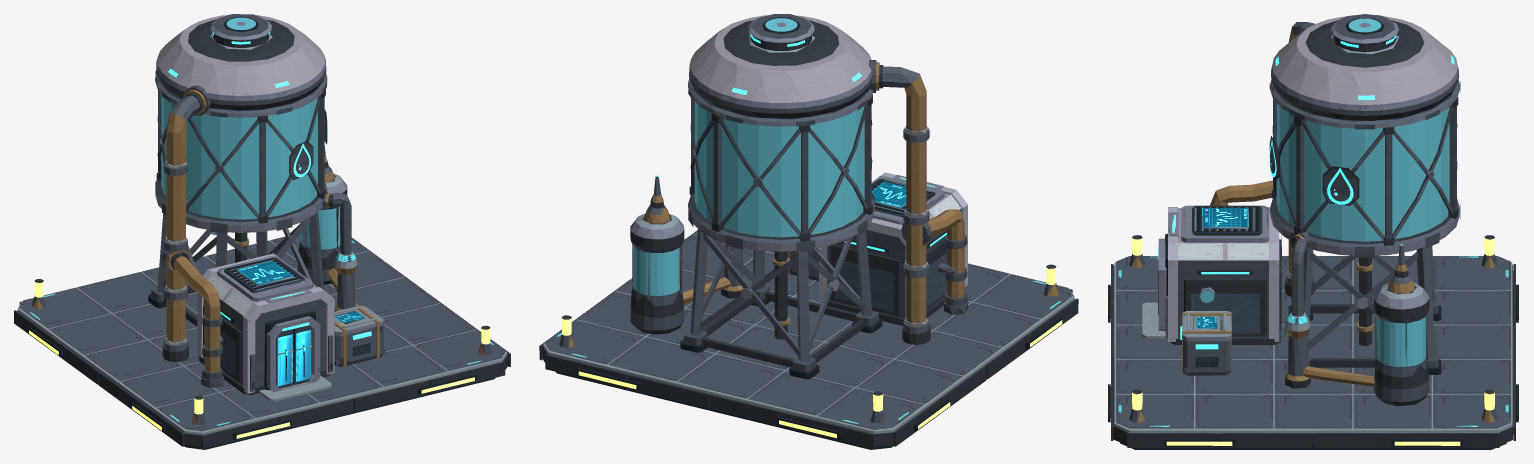
Rendered from TA03_TorreDeAguaAvanzada_Distancia.fbx.
3 views of the same model, side by side, from view 1: azimuth 30°, elevation 25°; view 2: azimuth 150°, elevation 25°; view 3: azimuth 270°, elevation 25° (orthographic). The views are drawn at different scales.
Parts seen in each view (by area): view 1: EstructuraDistante_3, CristalYAguaDistantes_3; view 2: EstructuraDistante_3, CristalYAguaDistantes_3; view 3: EstructuraDistante_3, CristalYAguaDistantes_3.
Boxes of the visible parts, x1,y1,x2,y2 form: EstructuraDistante_3: (14,14,510,449); CristalYAguaDistantes_3: (161,17,340,249); EstructuraDistante_3: (539,14,1078,449); CristalYAguaDistantes_3: (633,18,864,295); EstructuraDistante_3: (1107,14,1519,449); CristalYAguaDistantes_3: (1200,18,1449,366).
Size of the model in its own units: 6.29 by 5.56 by 6.09.
